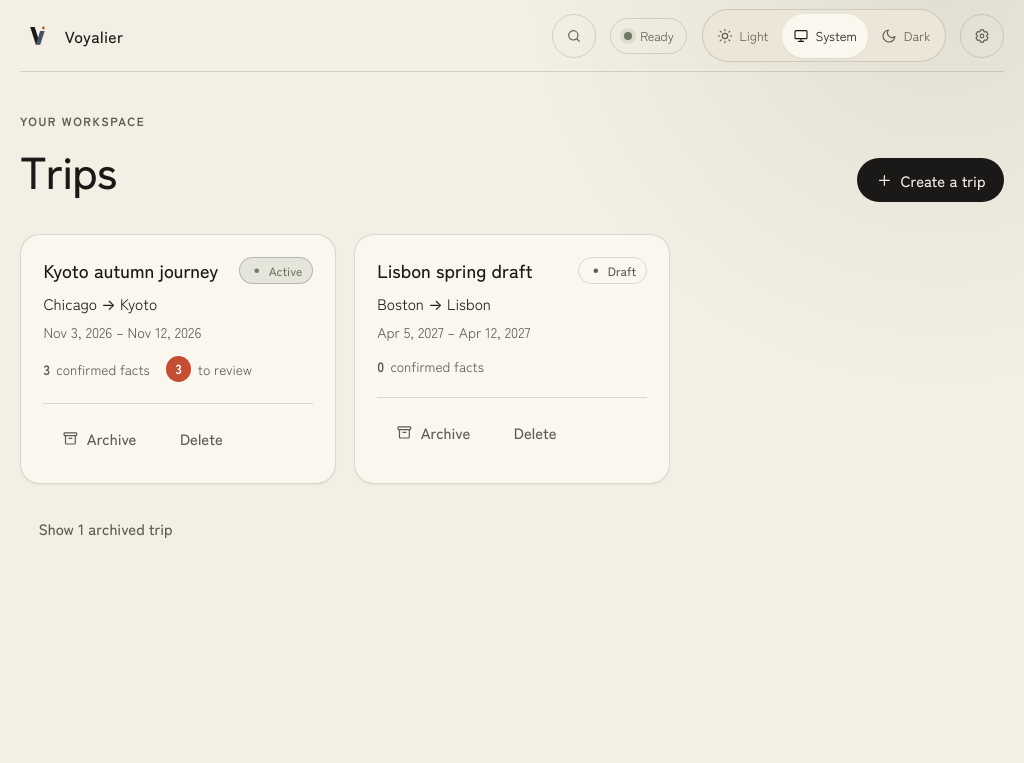
Test: City pack suggestions › shows a no-match line when nothing in the catalog matches
What coordinates should you click on to do the following:
click the button with aria-label "Open Lisbon spring draft"
I would click on:
 (455, 270)
Its box is [377,257,532,283].
(page scrolled)
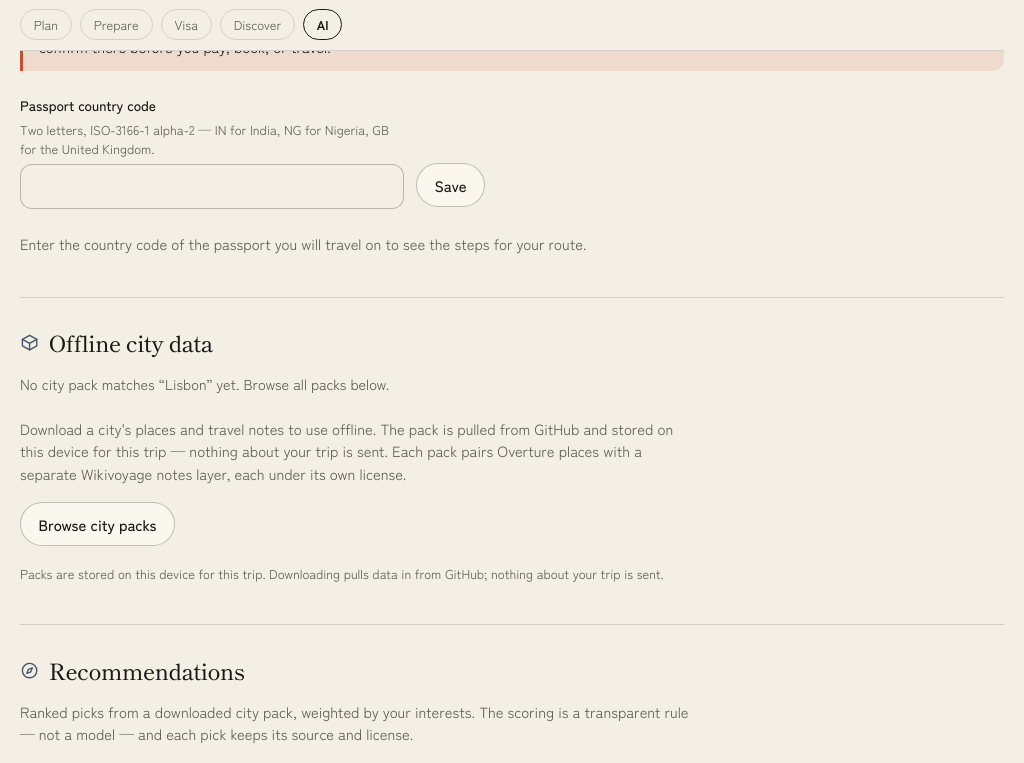
Result: the text "No city pack matches “Lisbon” yet. Browse all packs below." is shown at [20,373,389,394]
